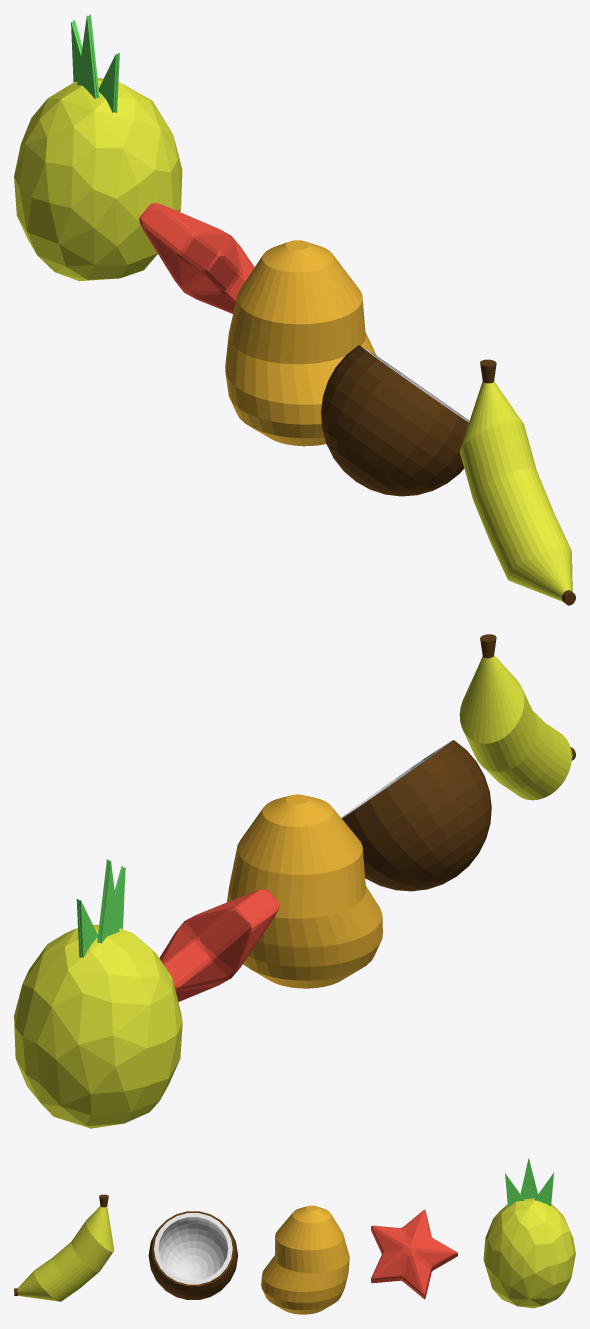
File: Frutas de Playa.glb
The picture shows the model from 3 angles, top to bottom: view 1: azimuth 30°, elevation 25°; view 2: azimuth 150°, elevation 25°; view 3: azimuth 270°, elevation 25°; orthographic projection. The views are drawn at different scales.
Visible parts, largest first — view 1: Piña, Mango, COCO, Banana, Estrella; view 2: Piña, Mango, COCO, Banana, Estrella; view 3: Piña, Mango, COCO, Banana, Estrella.
Boxes of the visible parts, x1,y1,x2,y2 form: Piña: [14, 14, 182, 281]; Mango: [225, 240, 376, 446]; COCO: [321, 345, 469, 496]; Banana: [459, 359, 575, 605]; Estrella: [139, 203, 254, 313]; Piña: [14, 859, 182, 1128]; Mango: [227, 794, 382, 988]; COCO: [341, 740, 491, 891]; Banana: [459, 634, 575, 800]; Estrella: [159, 889, 279, 1001]; Piña: [483, 1158, 575, 1308]; Mango: [261, 1205, 349, 1314]; COCO: [148, 1211, 238, 1299]; Banana: [14, 1194, 114, 1301]; Estrella: [371, 1209, 457, 1299].
Bounding box in the file's own units: 3.5 × 6.15 × 21.12.
